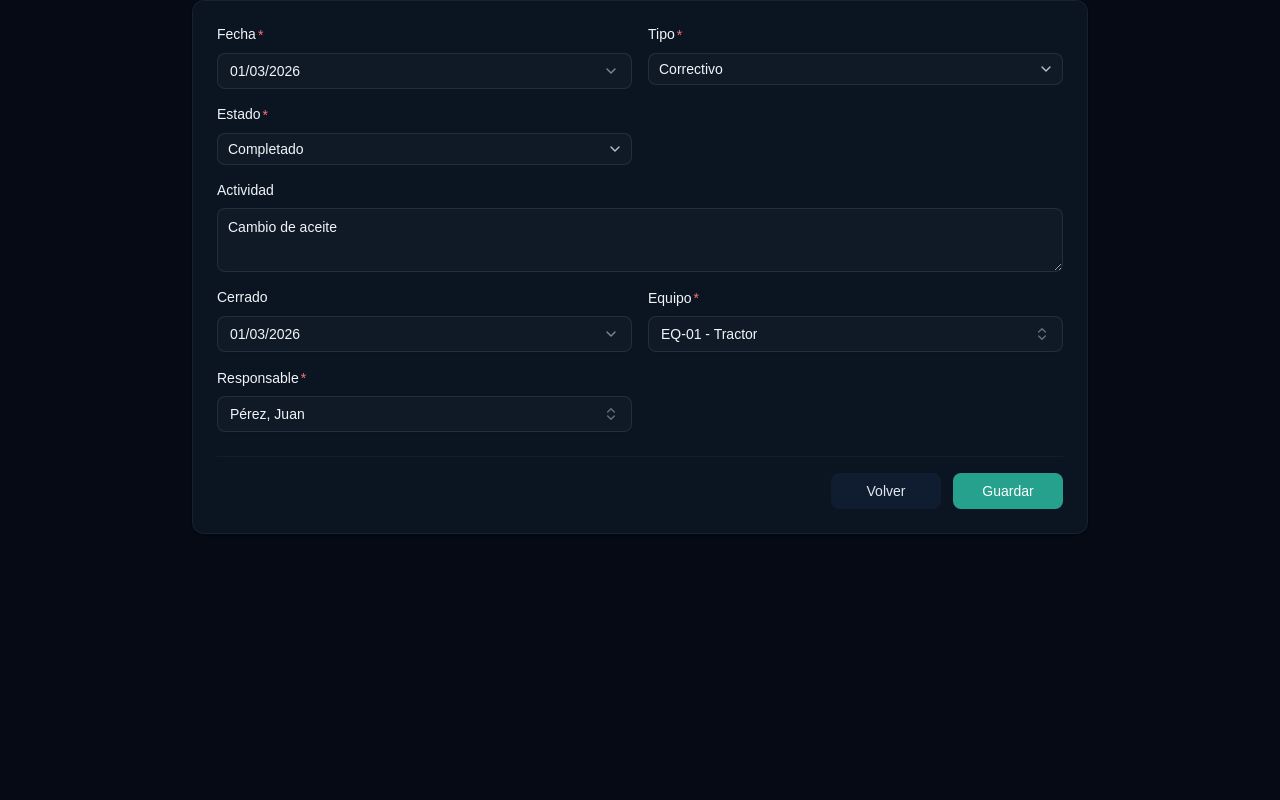
Test: EquipmentMaintenanceForm component › al cancelar en el modal EquipmentStatusDialog, se cierra el diálogo sin enviar la mutación
Expected: the button "Guardar" is shown, [953,473,1063,509]
Submit the form, box [192,0,1088,534]
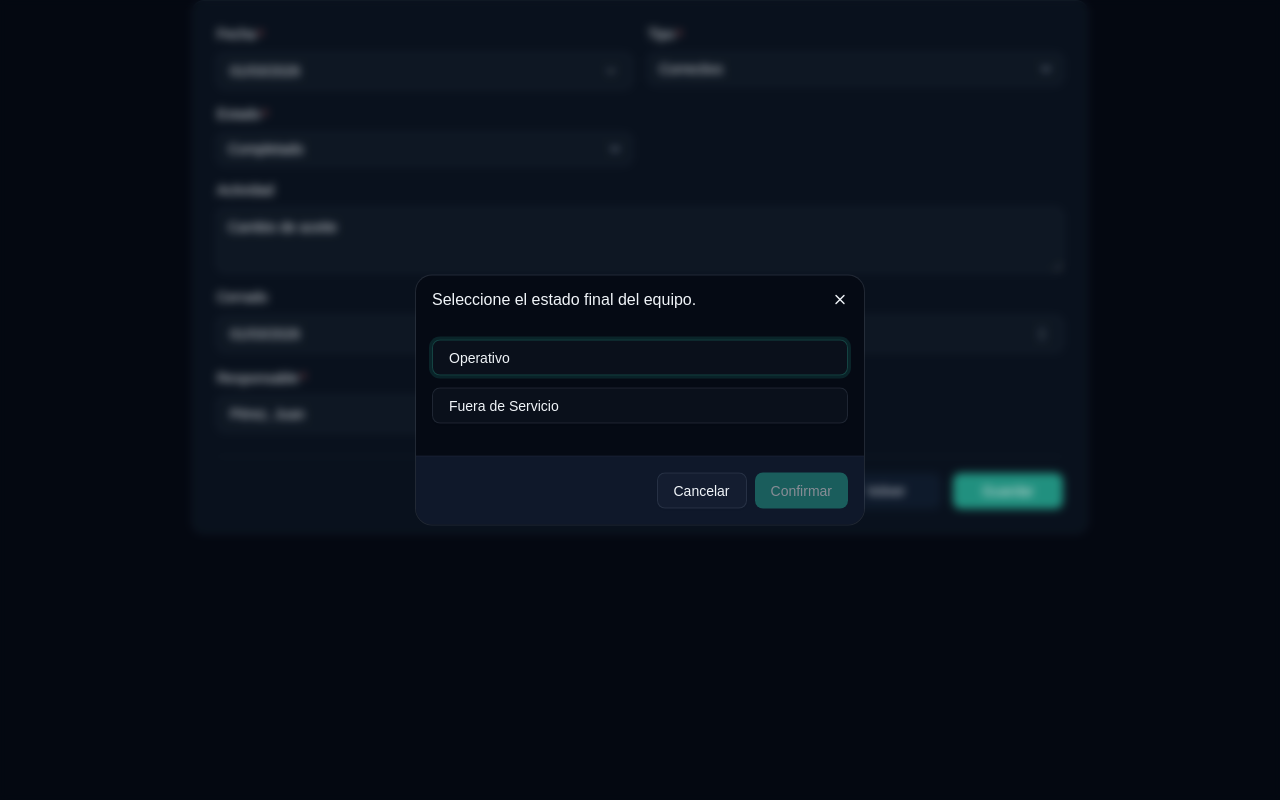
Expected: the heading "Seleccione el estado final del equipo." is shown, [432,290,696,308]
Click the button "Cancelar" at (702, 490), box [656,472,746,508]
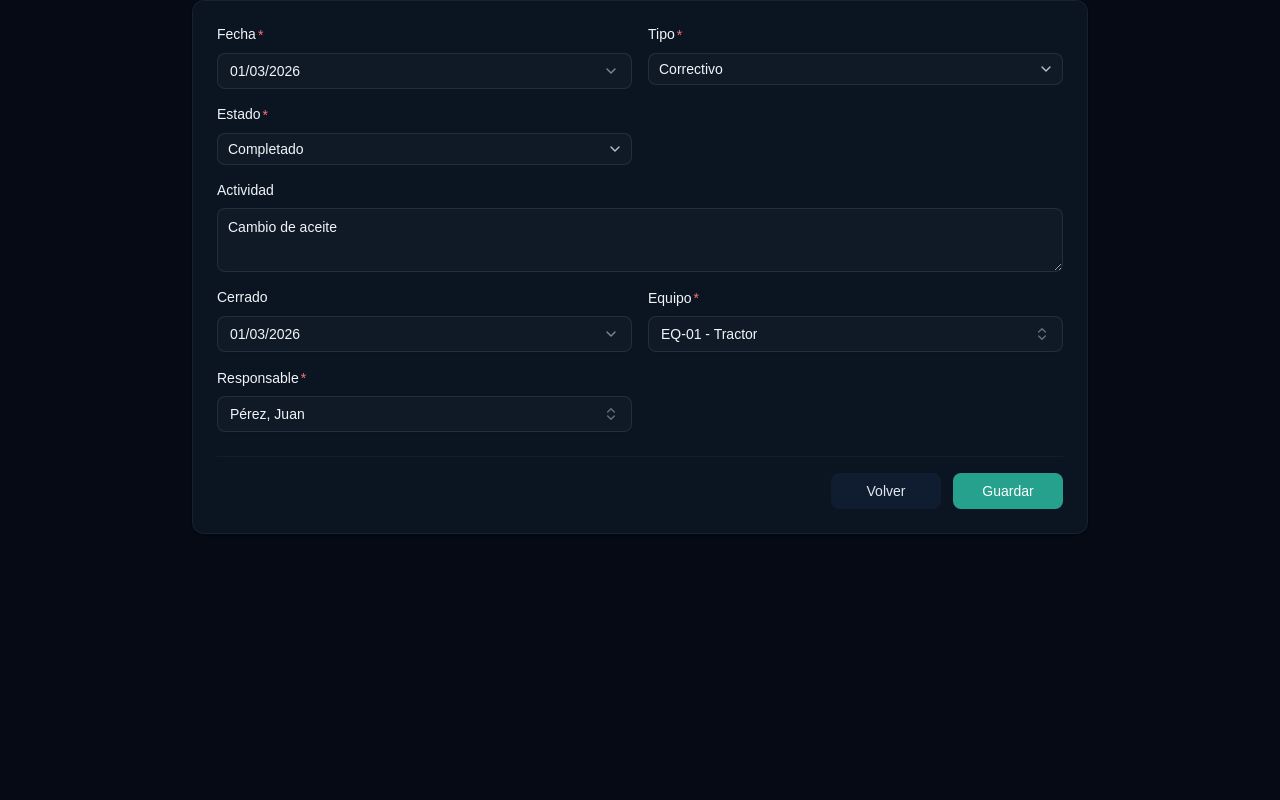
Expected: the heading "Seleccione el estado final del equipo." is gone
